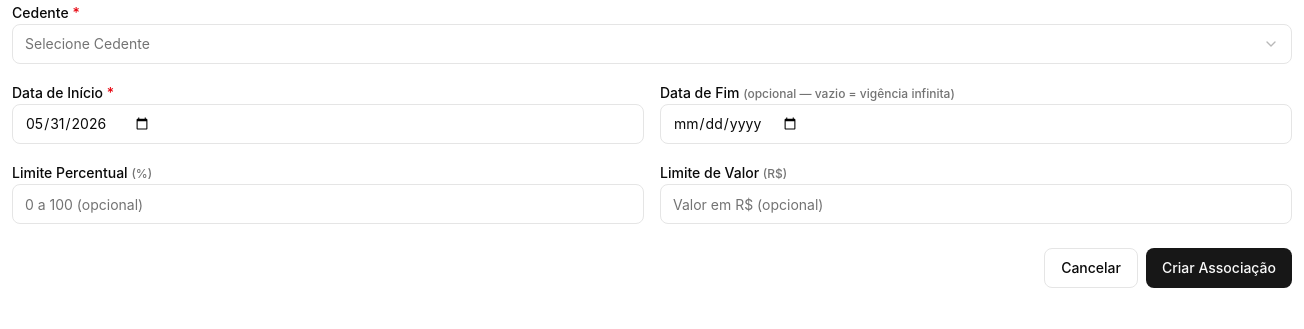
it: AssociationForm › shows validation error when submitted without targetId
The image size is (1304, 329).
Click the button "Criar Associação": coordinates (1219, 268) [1146, 248, 1292, 288]
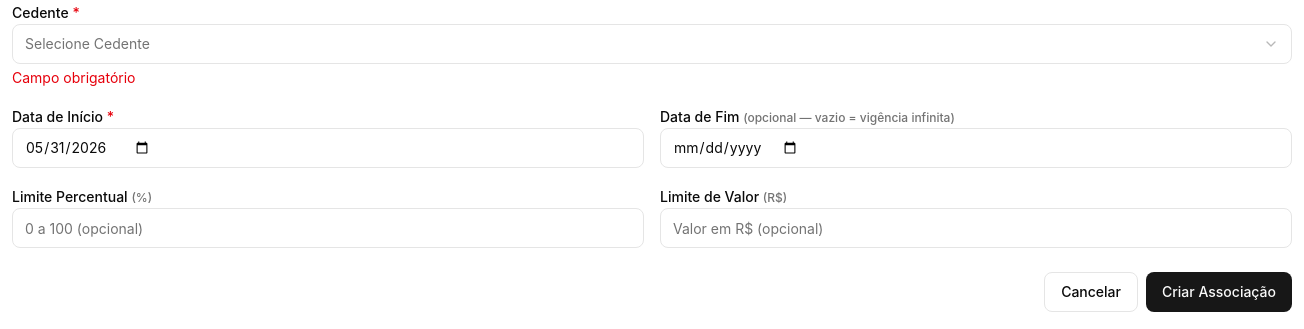
Result: the message "Campo obrigatório" is shown at [12, 69, 136, 86]
